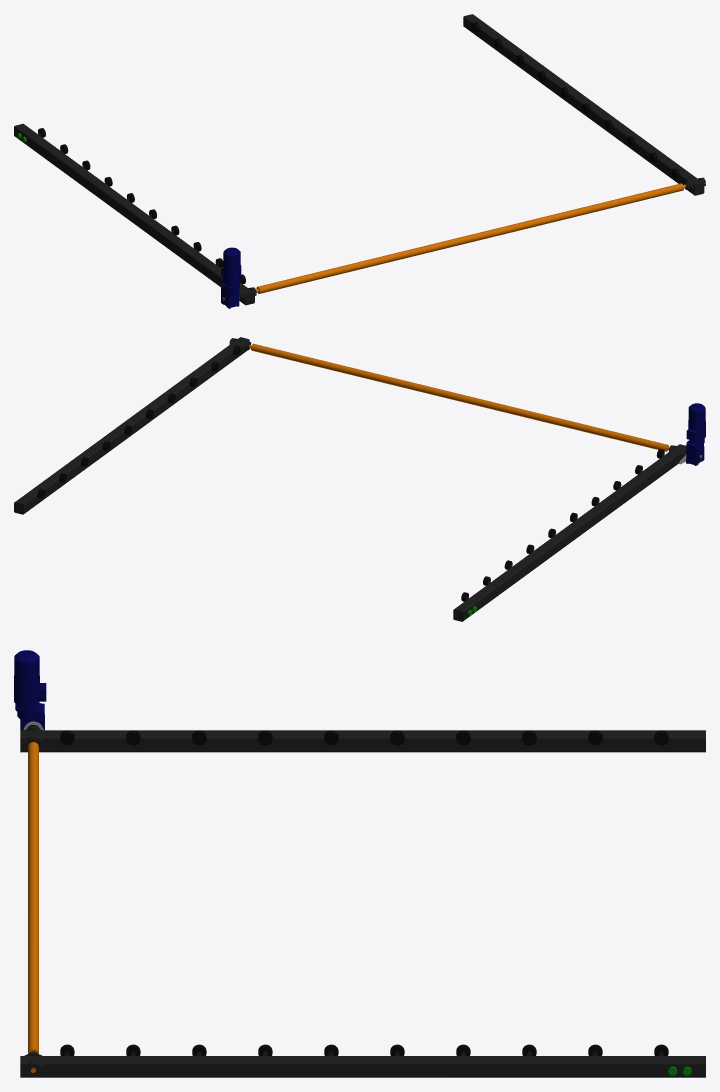
Rendered from SHELF-S-2.obj.
3 views of the same model, one above another, from view 1: azimuth 30°, elevation 25°; view 2: azimuth 150°, elevation 25°; view 3: azimuth 270°, elevation 25° (orthographic). The views are drawn at different scales.
Visible parts, largest first — view 1: Mesh; view 2: Mesh; view 3: Mesh.
Part boxes in pixels (x1=…): Mesh: x1=14, y1=14, x2=705, y2=308; Mesh: x1=14, y1=337, x2=705, y2=621; Mesh: x1=14, y1=650, x2=705, y2=1077.
Bounding box in the file's own units: 5668 × 634 × 4738.
